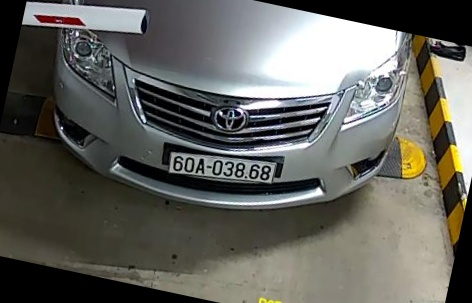plate: (166, 146, 283, 192)
